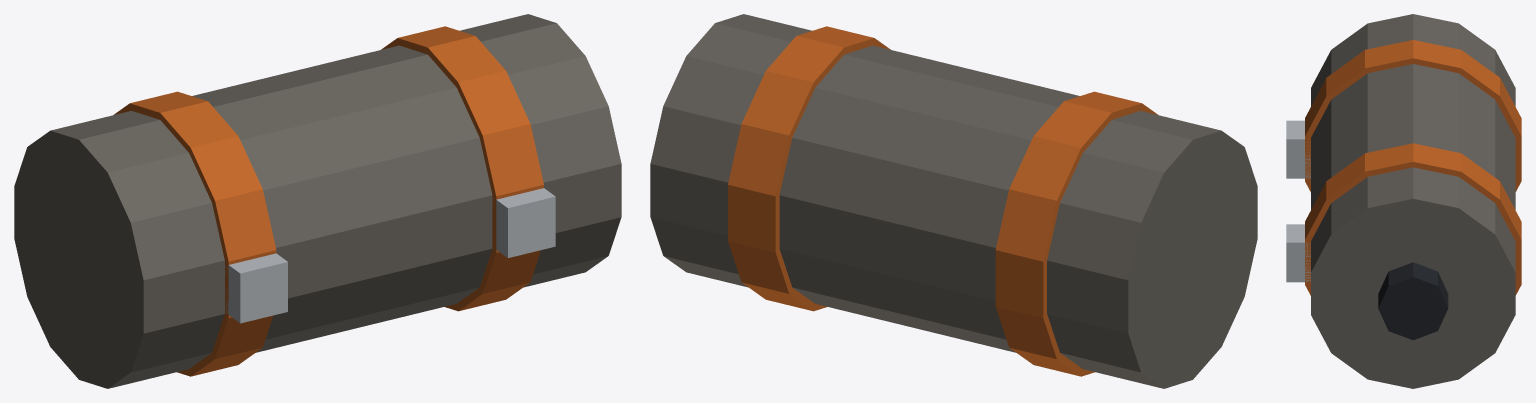
File: kit-roll.glb
3 views of the same model, side by side, from view 1: azimuth 30°, elevation 25°; view 2: azimuth 150°, elevation 25°; view 3: azimuth 270°, elevation 25° (orthographic). The views are drawn at different scales.
Visible parts, largest first — view 1: kit-roll; view 2: kit-roll; view 3: kit-roll.
Part boxes in pixels (x1,y1,x2,y2): kit-roll: [14, 14, 621, 388]; kit-roll: [650, 14, 1257, 388]; kit-roll: [1286, 14, 1521, 388].
Size of the model in its own units: 0.54 by 0.254 by 0.2688.
